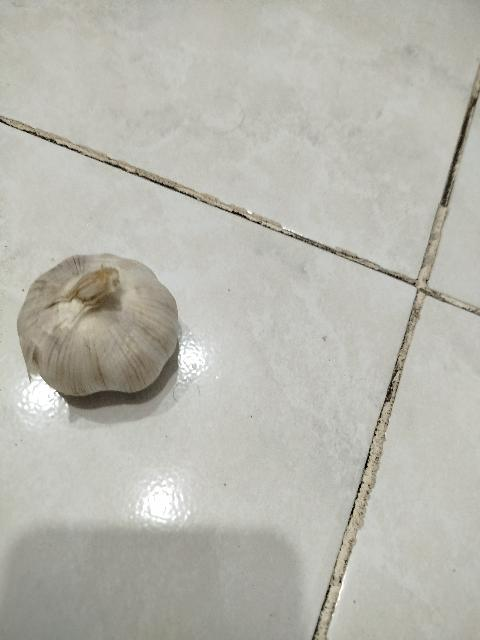garlic: (16, 252, 180, 398)
